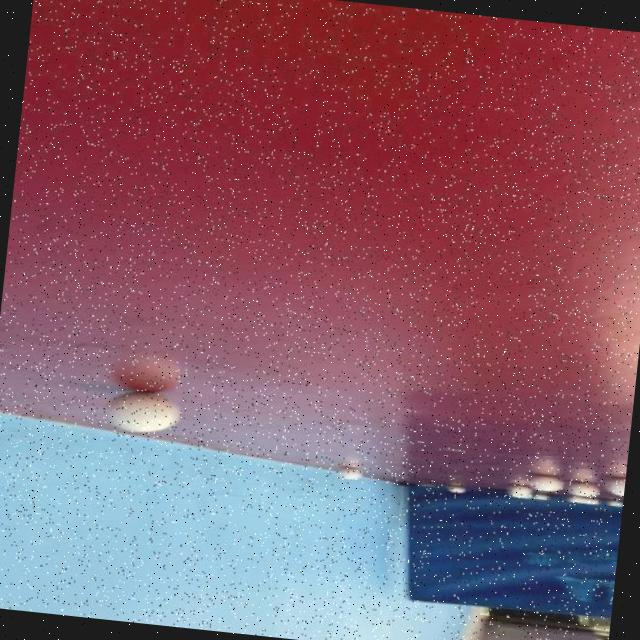ping-pong-ball: (91, 382, 190, 442)
